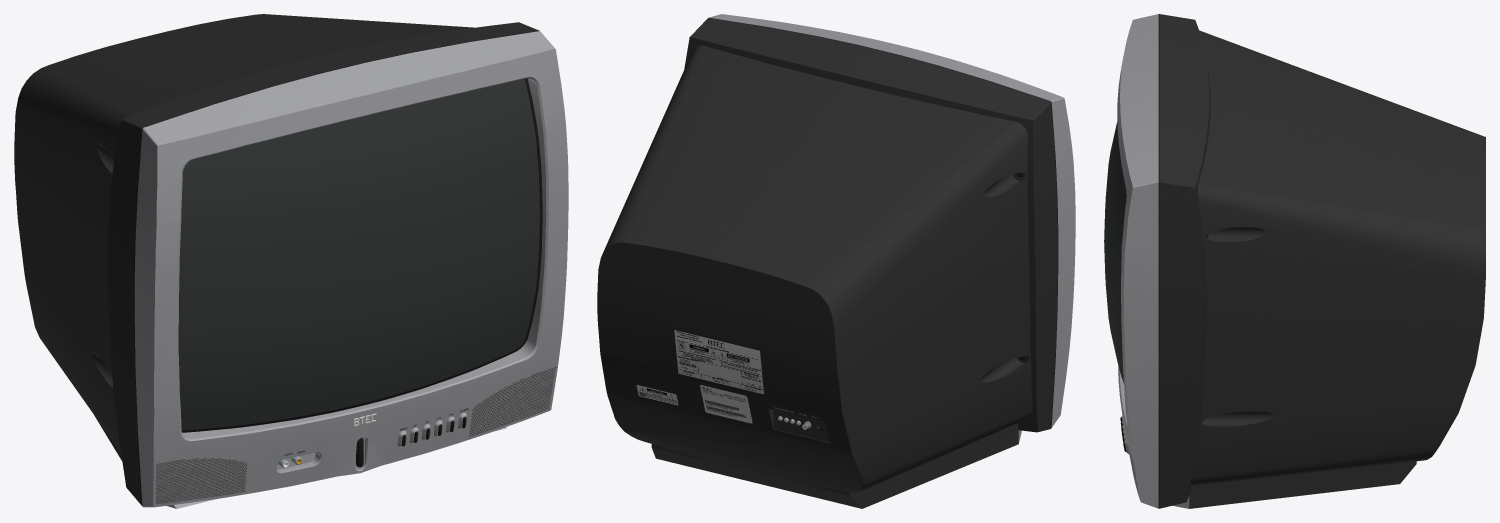
File: Electronics TV from 2003.obj
3 renders of one model, left to right at view 1: azimuth 30°, elevation 25°; view 2: azimuth 150°, elevation 25°; view 3: azimuth 270°, elevation 25°, orthographic. The views are drawn at different scales.
Parts seen in each view (by area): view 1: Mesh3 Component_13_1 Television_Silver_CRT1 Model, Mesh5 Component_14_1 Television_Silver_CRT1 Model, Mesh2 Difference1 Television_Silver_CRT1 Model, Mesh4 Component_9_1 Television_Silver_CRT1 Model; view 2: Mesh2 Difference1 Television_Silver_CRT1 Model, Mesh4 Component_9_1 Television_Silver_CRT1 Model, Mesh5 Component_14_1 Television_Silver_CRT1 Model, Mesh1 Difference Television_Silver_CRT1 Model; view 3: Mesh2 Difference1 Television_Silver_CRT1 Model, Mesh4 Component_9_1 Television_Silver_CRT1 Model, Mesh5 Component_14_1 Television_Silver_CRT1 Model, Mesh1 Difference Television_Silver_CRT1 Model, Mesh3 Component_13_1 Television_Silver_CRT1 Model.
Part boxes in pixels (x1,y1,x2,y2): Mesh3 Component_13_1 Television_Silver_CRT1 Model: [178, 78, 542, 432]; Mesh5 Component_14_1 Television_Silver_CRT1 Model: [134, 31, 568, 507]; Mesh2 Difference1 Television_Silver_CRT1 Model: [14, 14, 473, 452]; Mesh4 Component_9_1 Television_Silver_CRT1 Model: [108, 22, 539, 505]; Mesh2 Difference1 Television_Silver_CRT1 Model: [597, 45, 1032, 492]; Mesh4 Component_9_1 Television_Silver_CRT1 Model: [684, 17, 1058, 432]; Mesh5 Component_14_1 Television_Silver_CRT1 Model: [709, 14, 1075, 427]; Mesh1 Difference Television_Silver_CRT1 Model: [651, 423, 1021, 508]; Mesh2 Difference1 Television_Silver_CRT1 Model: [1190, 30, 1485, 485]; Mesh4 Component_9_1 Television_Silver_CRT1 Model: [1158, 14, 1210, 508]; Mesh5 Component_14_1 Television_Silver_CRT1 Model: [1117, 14, 1158, 508]; Mesh1 Difference Television_Silver_CRT1 Model: [1173, 461, 1416, 508]; Mesh3 Component_13_1 Television_Silver_CRT1 Model: [1104, 122, 1126, 383].
Size of the model in its own units: 2.32 by 2.15 by 2.15.
Materials: 12 (4 with a texture image).
